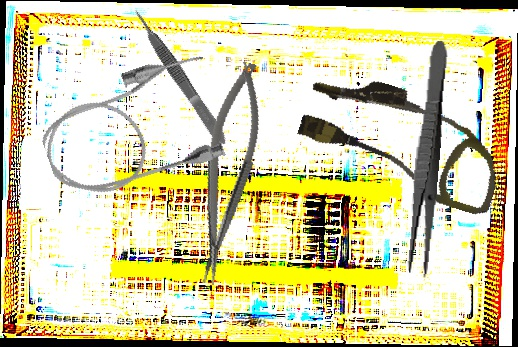Cannula: (290, 63, 515, 218), (29, 46, 236, 211)
Dressing Forceps: (405, 39, 450, 279)
Needle Holder: (178, 58, 276, 288)
Tissue Forceps: (129, 4, 231, 149)
